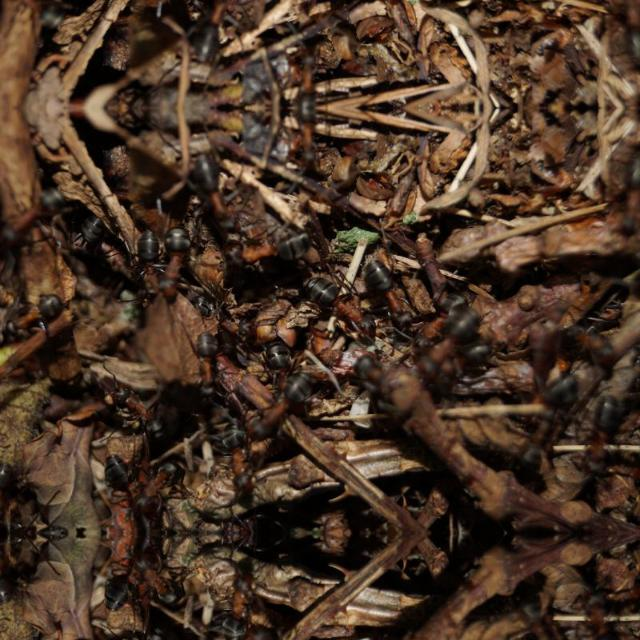Formica: (410, 298, 504, 380), (178, 127, 244, 231), (220, 215, 324, 272), (104, 372, 178, 452), (250, 362, 322, 442), (212, 414, 274, 506), (176, 0, 242, 86), (146, 222, 204, 312), (212, 558, 272, 640), (304, 277, 378, 343), (98, 450, 154, 524), (98, 541, 154, 615), (514, 392, 564, 472), (576, 383, 626, 459), (503, 366, 585, 410), (0, 288, 68, 339), (123, 232, 171, 304), (373, 258, 423, 324), (271, 107, 329, 161), (271, 53, 329, 107), (560, 318, 622, 367), (189, 327, 235, 393), (148, 449, 194, 509), (148, 556, 194, 616), (512, 592, 564, 640), (102, 612, 178, 640), (576, 606, 626, 640), (250, 622, 320, 640), (452, 275, 476, 305)
